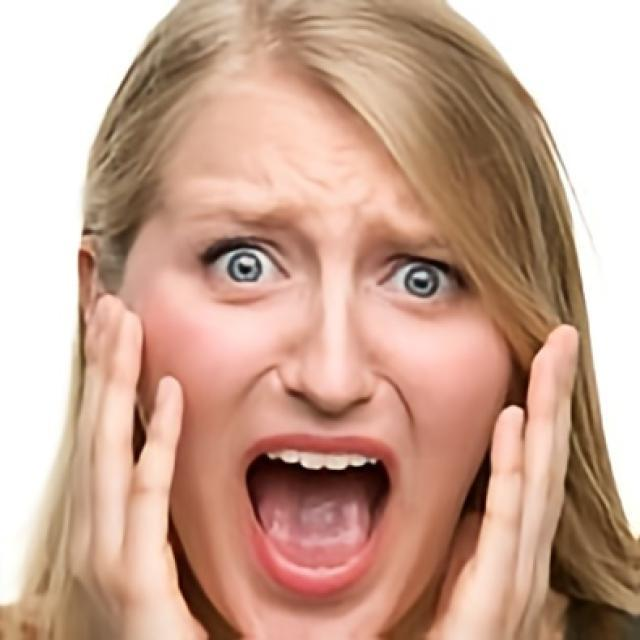fear: (113, 61, 513, 640)
